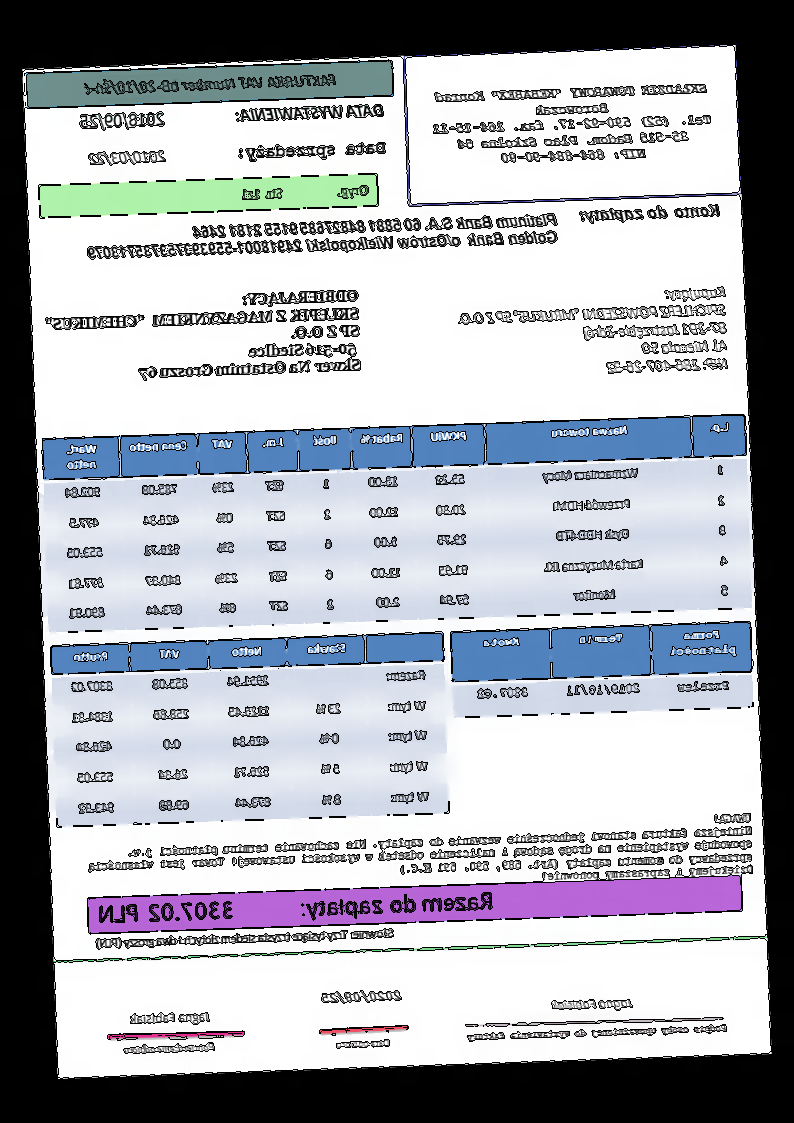Table: (41, 412, 754, 633), (50, 631, 450, 829), (449, 619, 756, 720)
TextBox: (87, 812, 756, 901), (45, 288, 363, 384), (456, 282, 732, 381), (429, 80, 713, 168), (85, 210, 561, 262), (97, 887, 496, 930), (94, 925, 397, 953), (79, 70, 340, 98), (466, 1020, 730, 1044), (236, 137, 388, 164), (578, 201, 724, 227), (233, 101, 387, 125), (239, 182, 372, 205), (78, 108, 168, 132), (122, 1039, 218, 1057), (86, 149, 168, 167), (130, 1009, 212, 1027), (550, 996, 635, 1012), (319, 989, 403, 1005), (334, 1036, 392, 1051)
